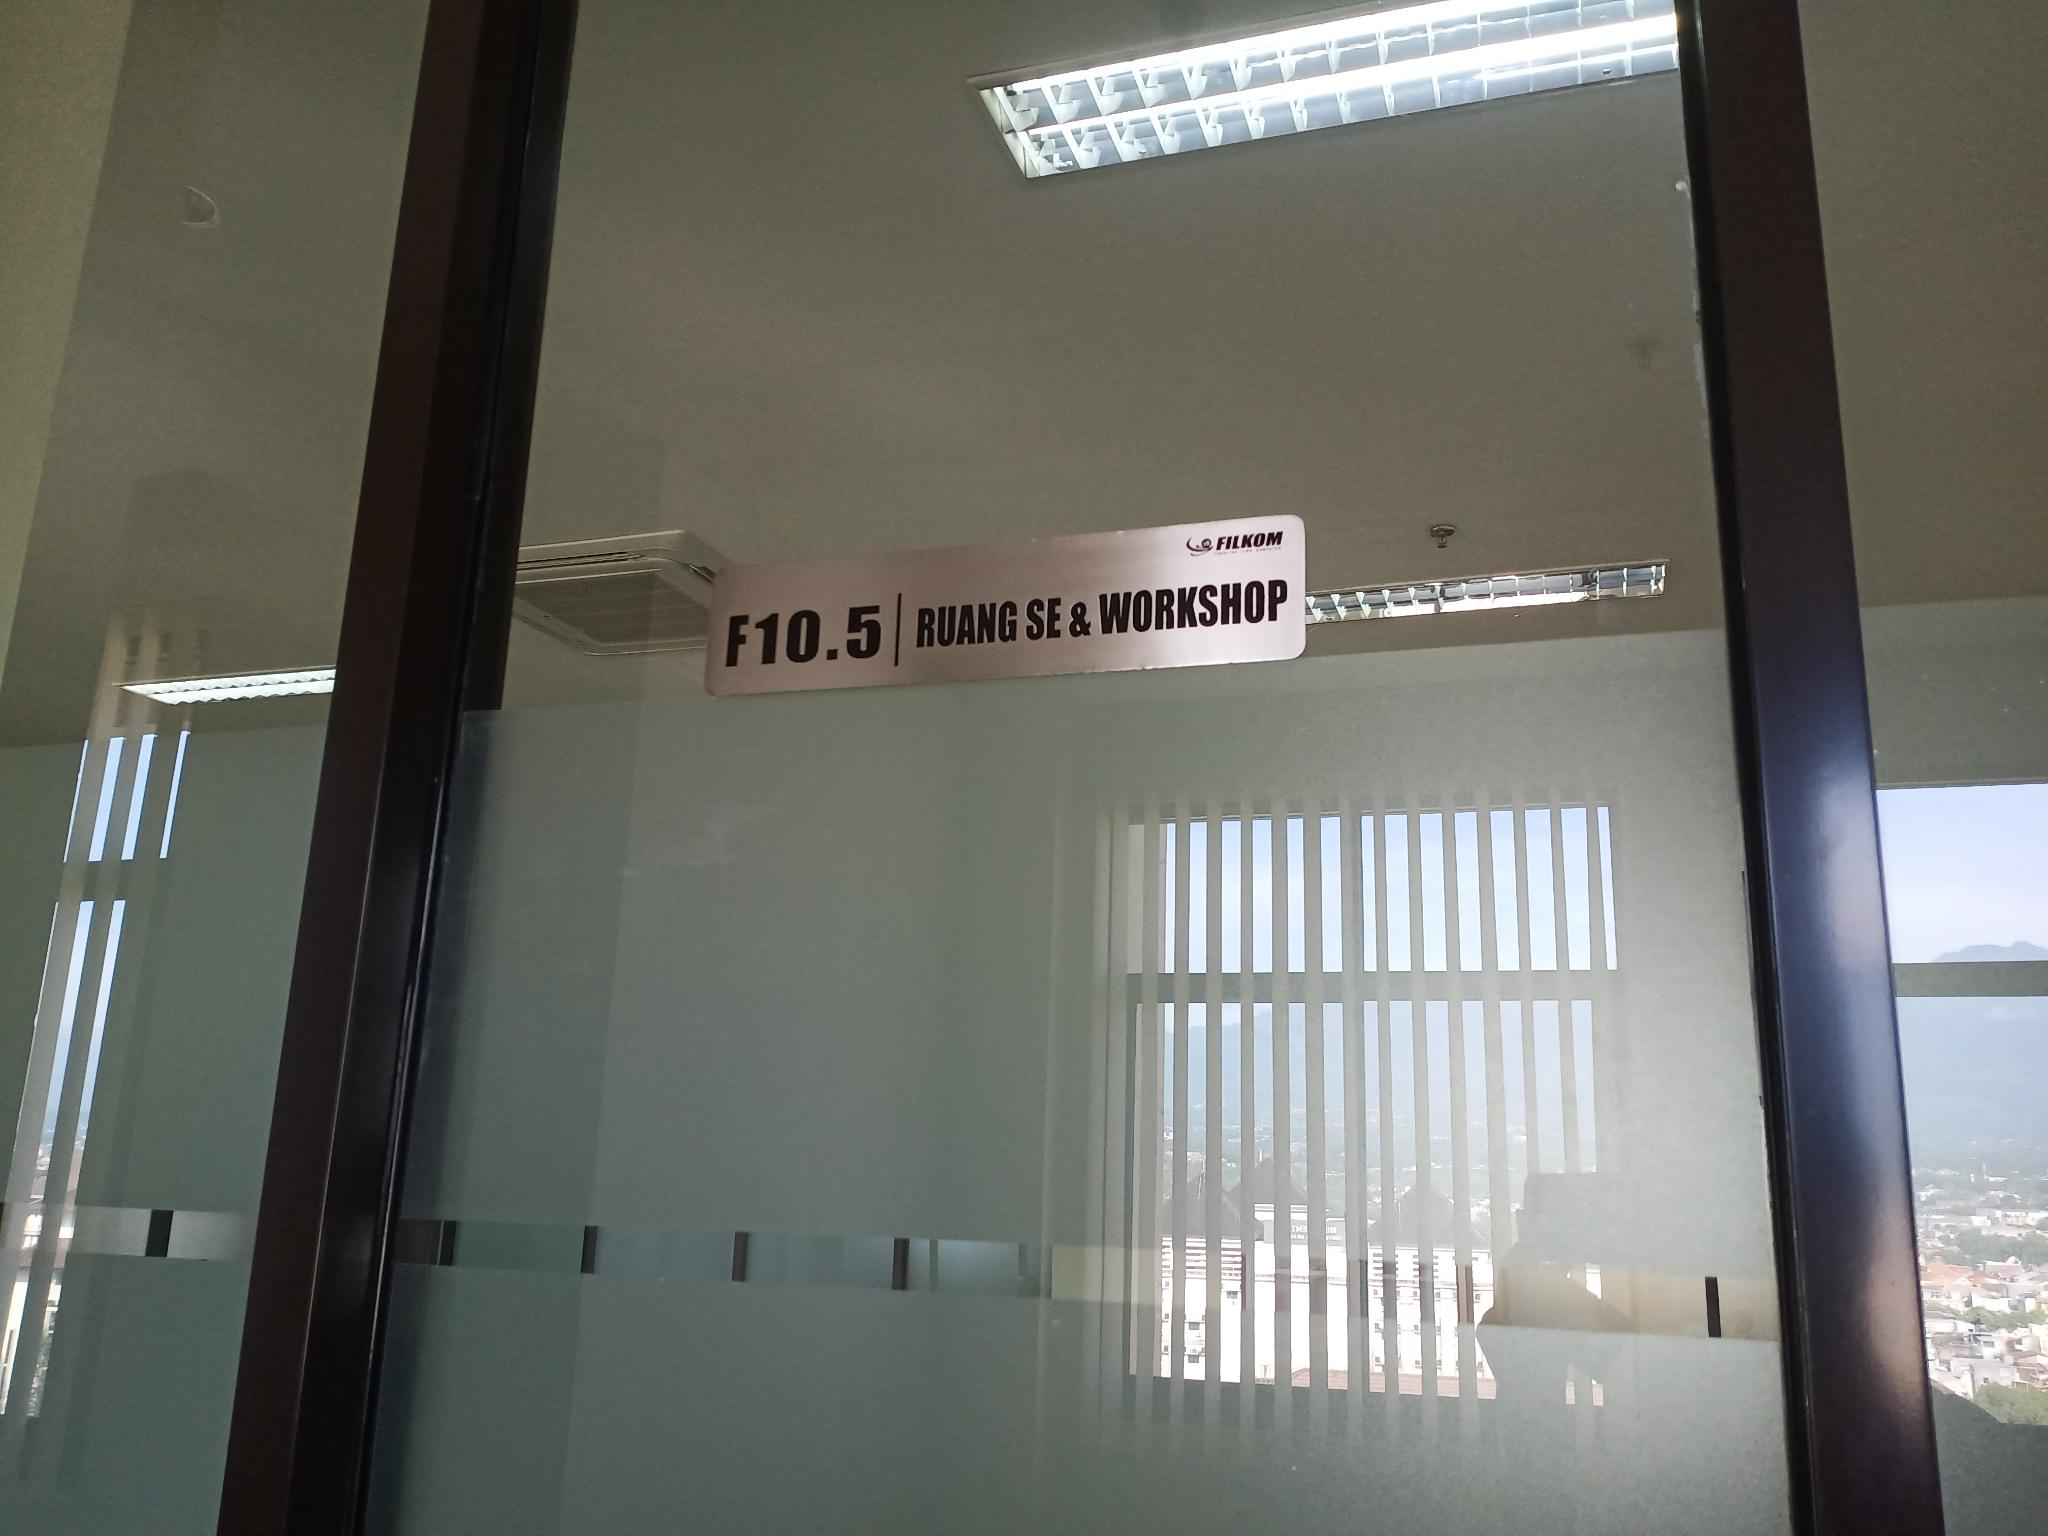plate: (706, 508, 1311, 705)
